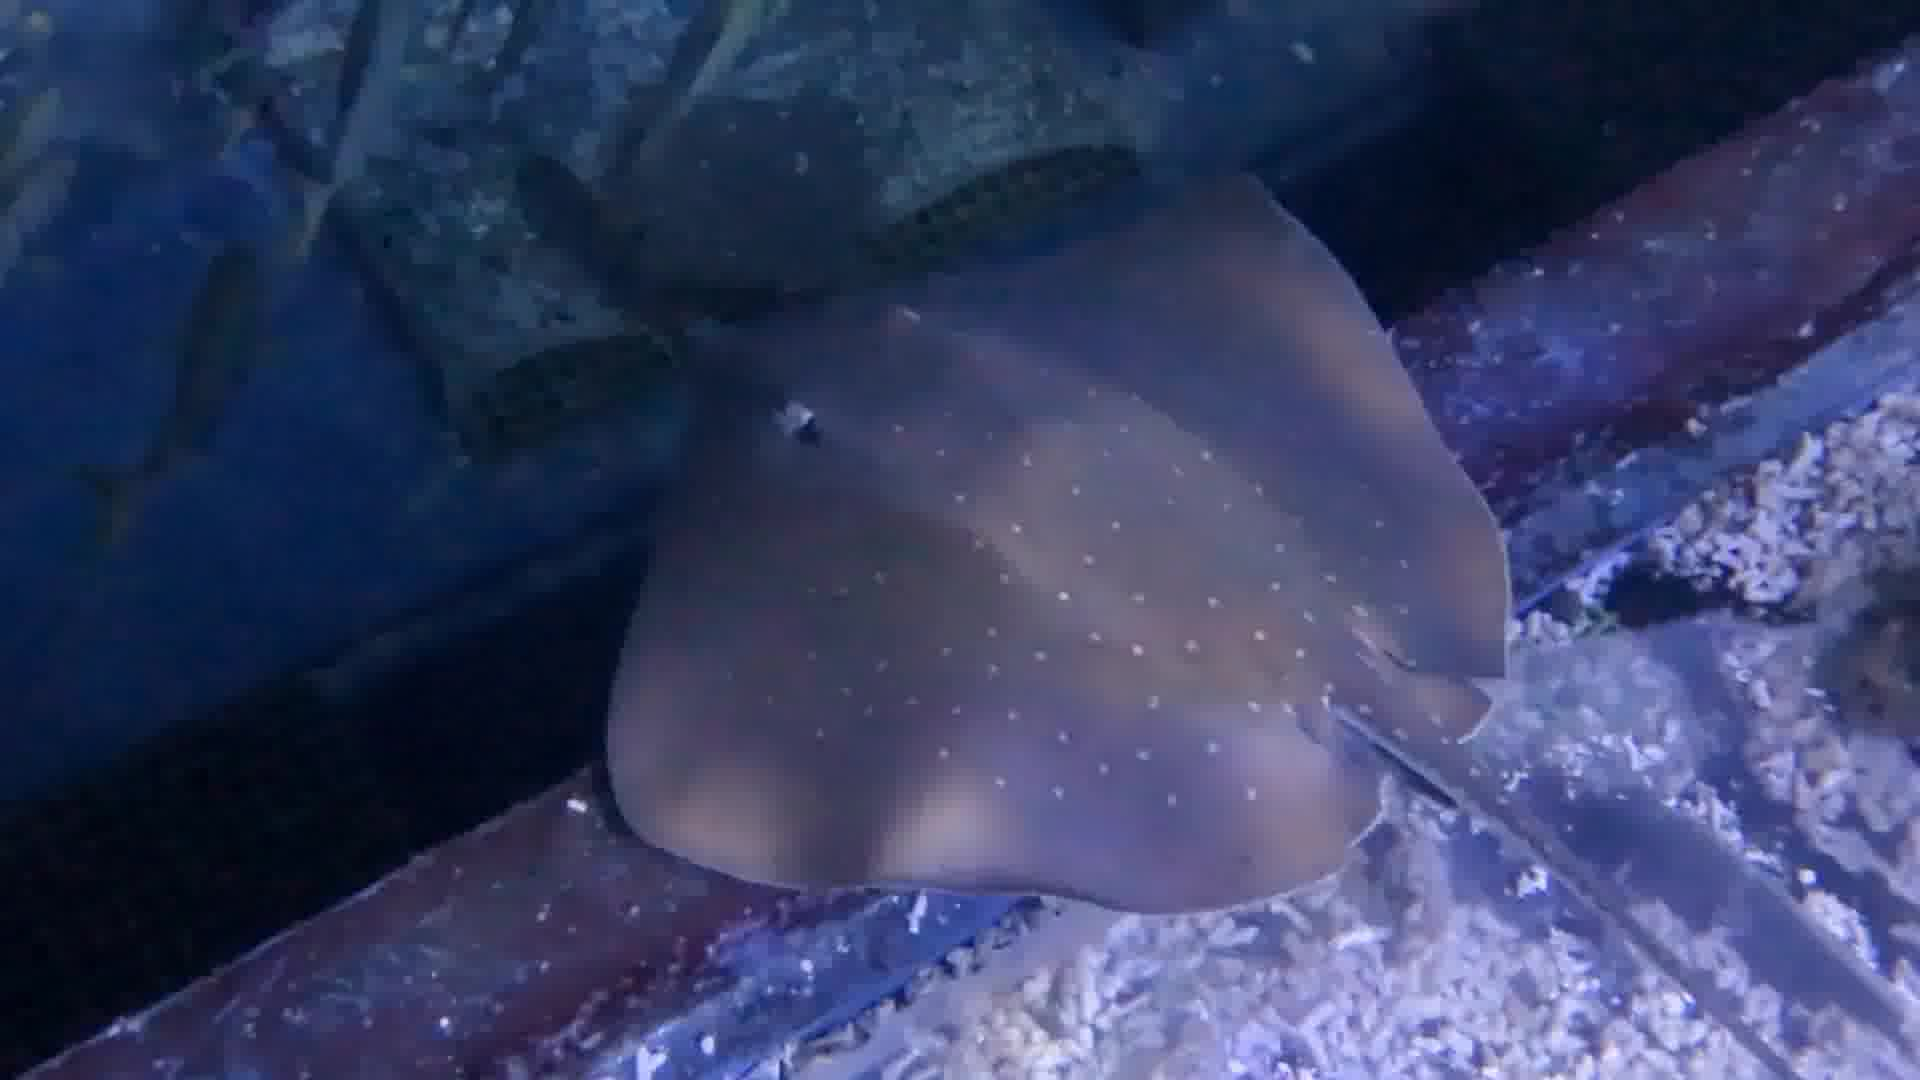Himantura gerrardi: (568, 162, 1797, 1079)
